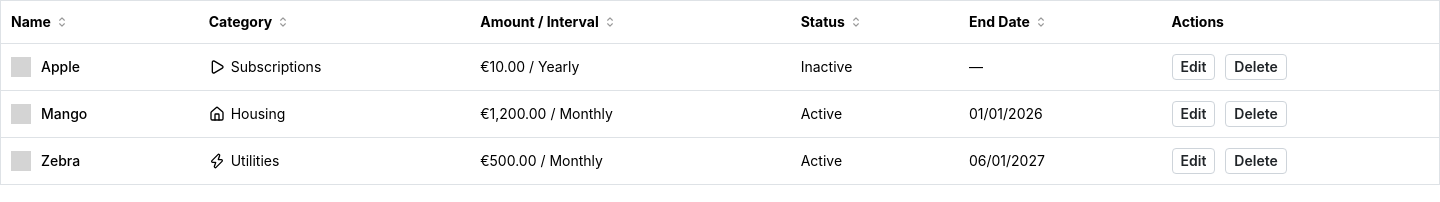
Scenario: ContractTable – sort indicators › after clicking a sortable header twice, that header shows a descending icon
The image size is (1440, 202).
Click the column heading "Name": (100, 22) [0, 0, 199, 43]
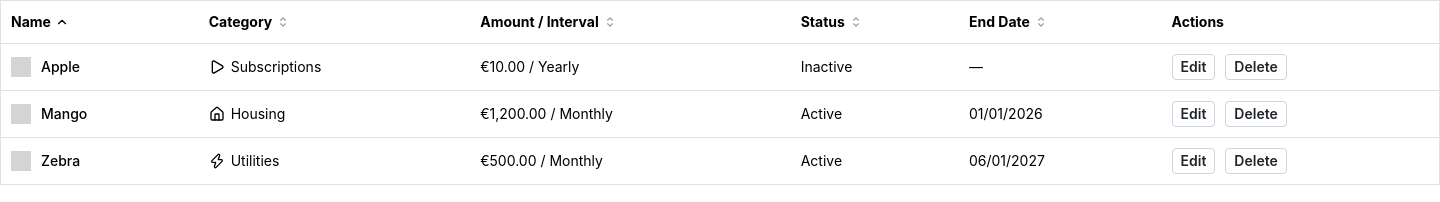
Click the column heading "Name": (100, 22) [0, 0, 199, 43]
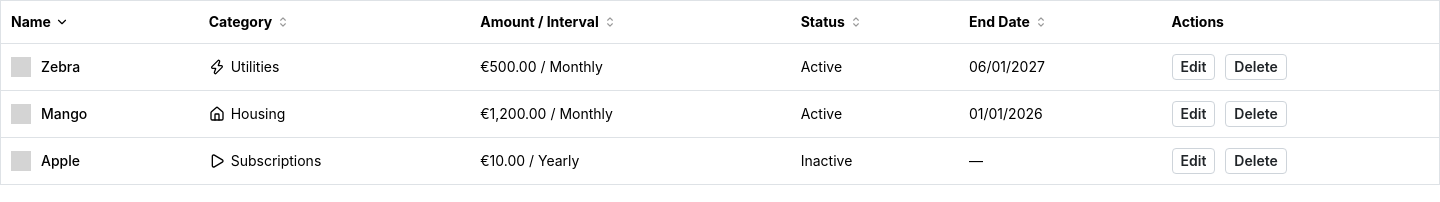
Expected: the picture named "Sorted descending" is shown, [55, 15, 69, 29]
